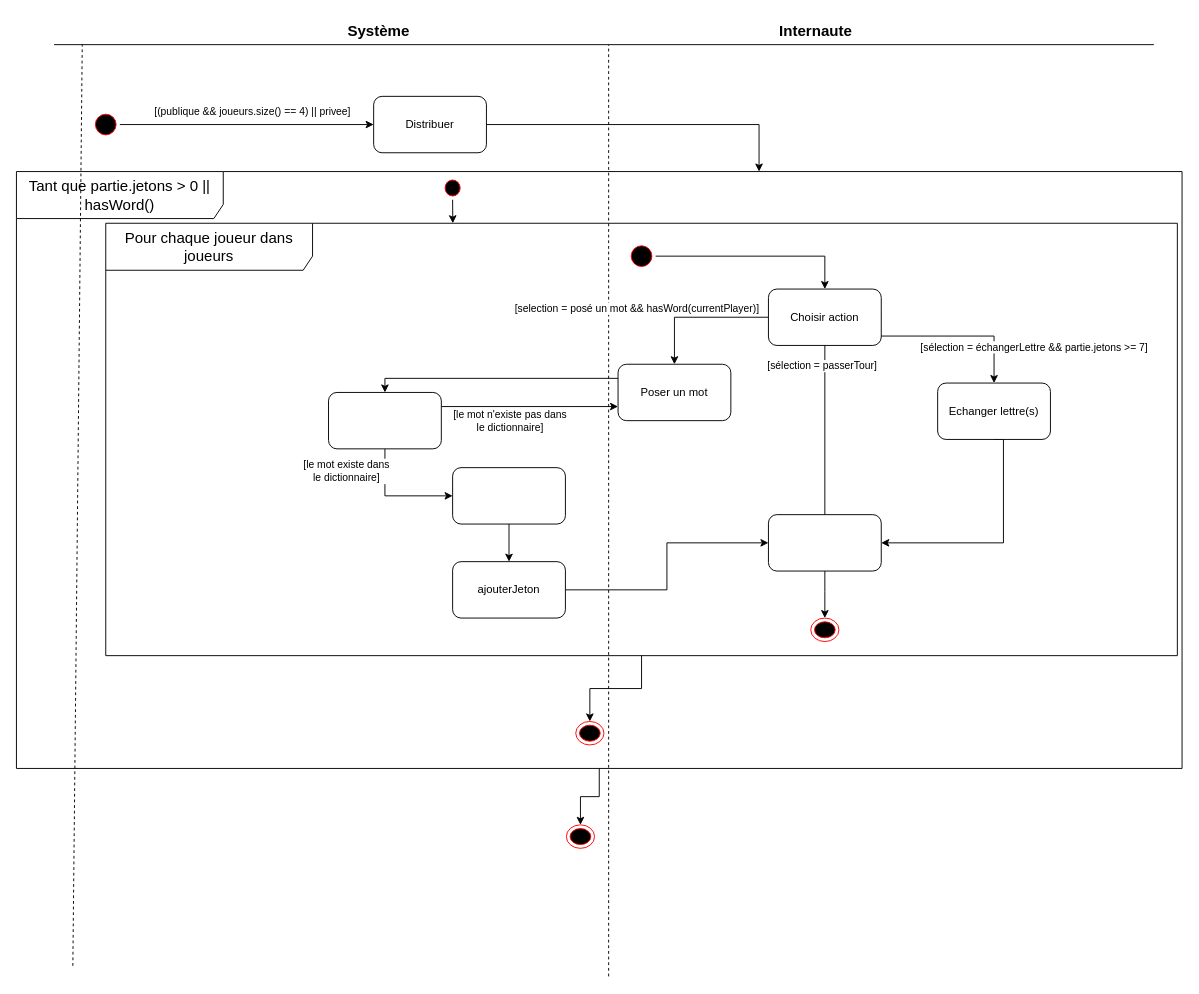
Image size: 1199x994. Some labels were removed from this diagram. The centre of each missing label's shape, as x and y in pixels:
calculerScore: the point at 508,495
Passer son tour: the point at 824,542
Vérification de l'existence du mot: the point at 384,420
